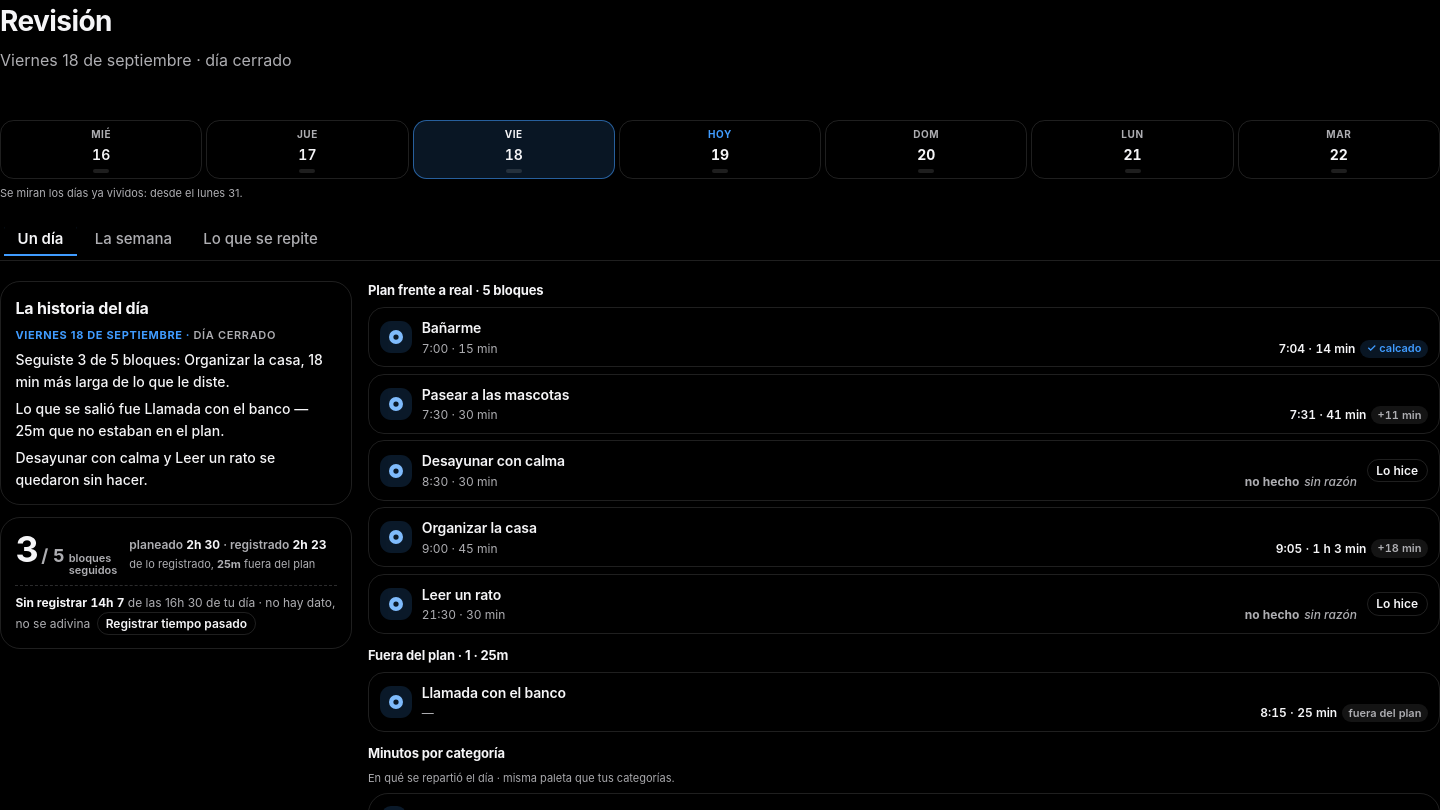
la revisión rellena el día (criterios 35–44) › **«Registrar tiempo pasado»** abre la hoja **sin salir** de la revisión (criterio 37)
What coordinates should you click on to do the following:
click the button "Registrar tiempo pasado"
I would click on:
 (176, 624)
Its box is [97, 612, 256, 636].
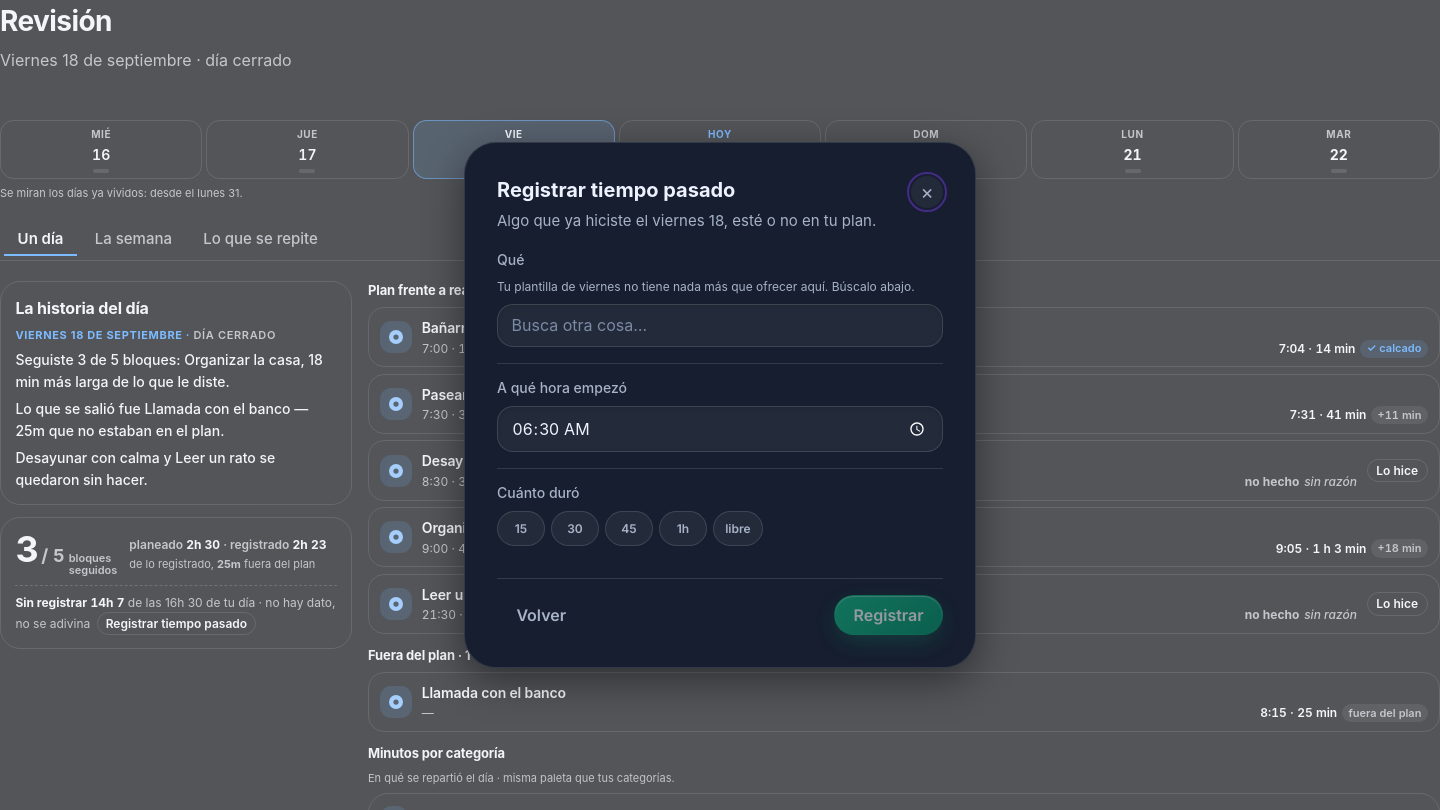
Expected: the heading "Revisión" is shown, [0, 4, 112, 38]
Now the dialog is shown, box [464, 142, 976, 668]
